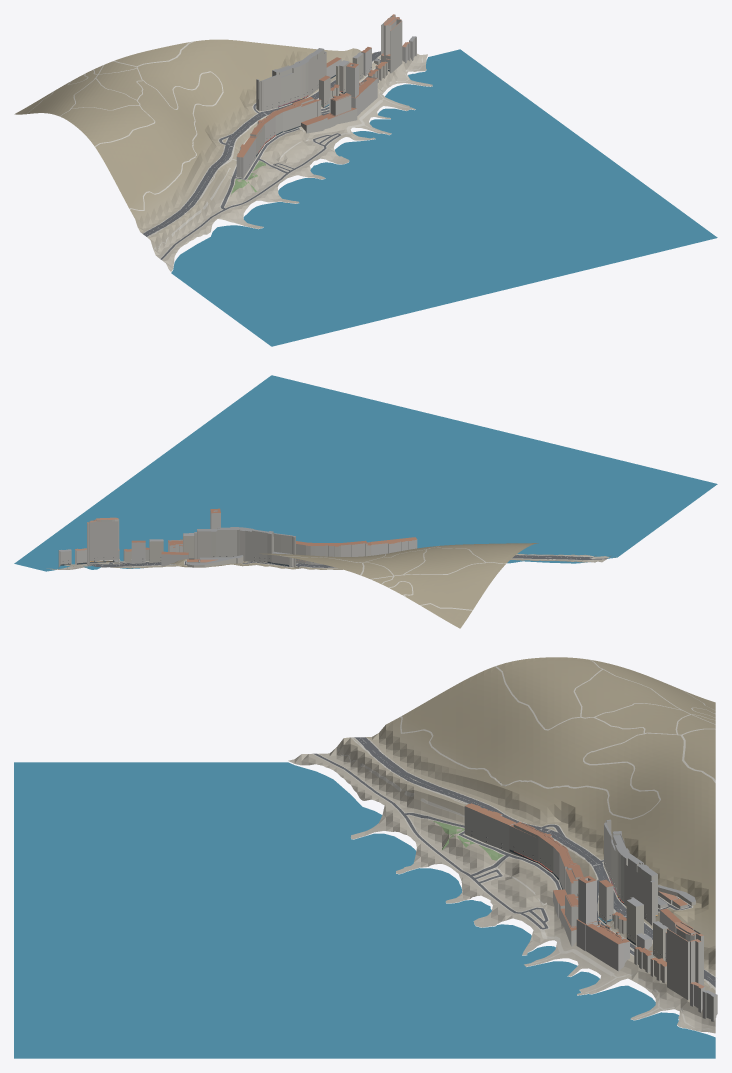
3 renders of one model, top to bottom at view 1: azimuth 30°, elevation 25°; view 2: azimuth 150°, elevation 25°; view 3: azimuth 270°, elevation 25°, orthographic. The views are drawn at different scales.
Visible parts, largest first — view 1: Water, Ground, Walls, Sidewalk, Road, Roofs; view 2: Water, Ground, Walls, Roofs, Sidewalk, Road; view 3: Water, Ground, Walls, Sidewalk, Road, Roofs.
Part boxes in pixels (x1,y1,x2,y2): Water: (171,49,717,346); Ground: (14,39,432,271); Walls: (236,15,416,177); Sidewalk: (27,41,430,260); Road: (143,51,380,259); Roofs: (237,14,416,157); Water: (14,375,717,571); Ground: (46,543,616,628); Walls: (58,509,417,568); Roofs: (59,508,416,565); Sidewalk: (52,545,607,610); Road: (88,555,607,567); Water: (14,762,715,1058); Ground: (288,657,715,1033); Walls: (464,806,717,1021); Sidewalk: (312,659,715,1029); Road: (313,737,715,987); Roofs: (465,803,717,996).
Bounding box in the file's own units: 1002 × 165 × 1003.
